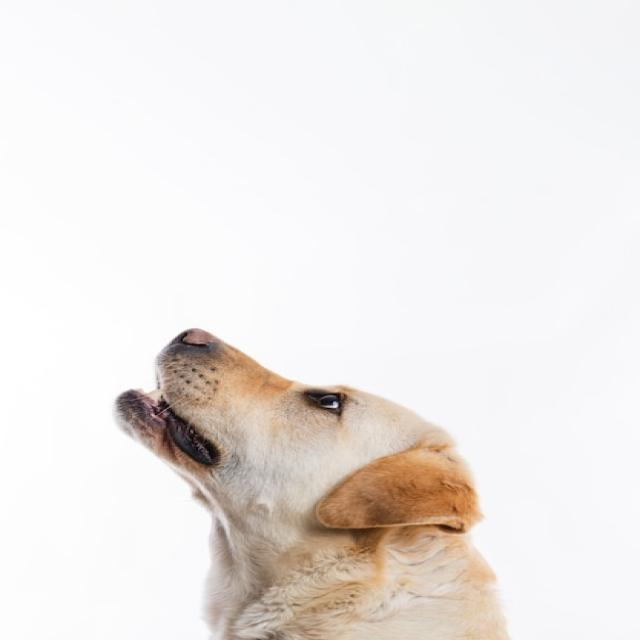Dog: (111, 328, 508, 640)
